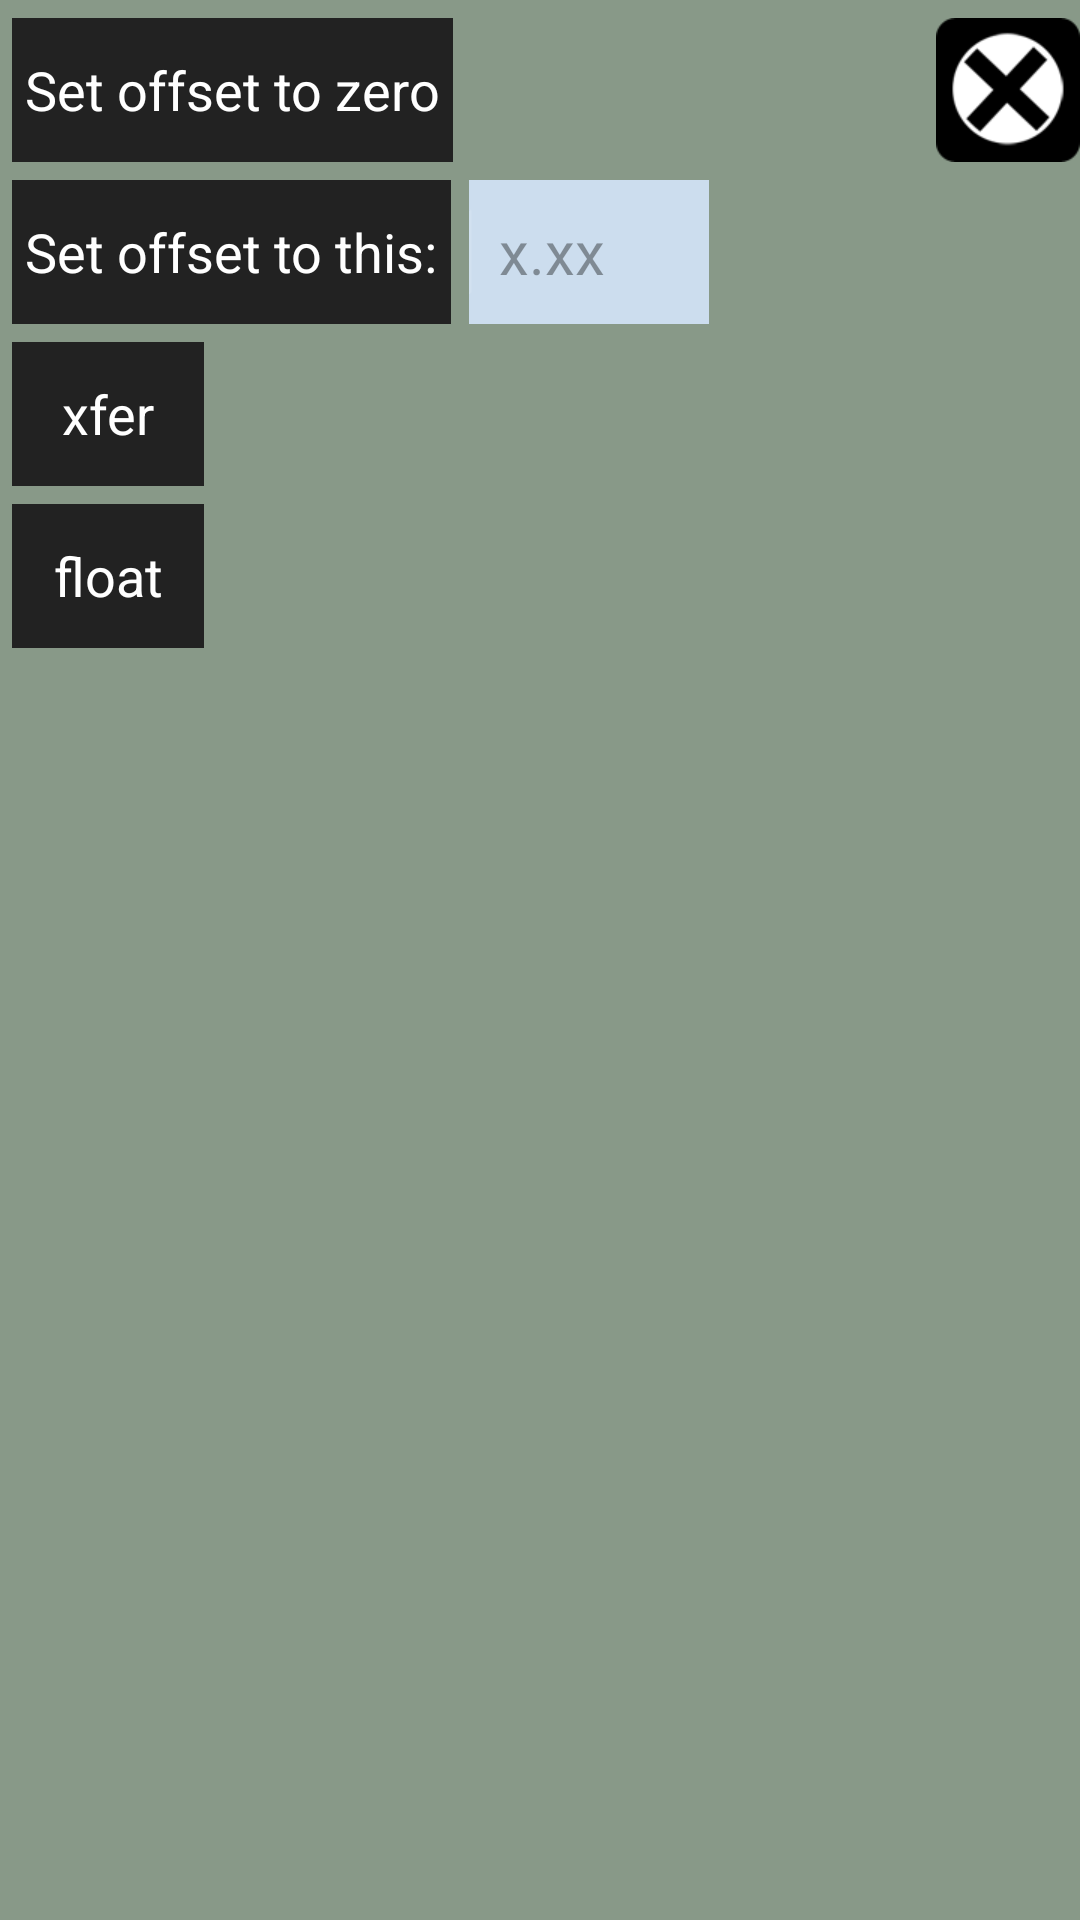

Screen size 1080*1920. Icon name, then its center in pixels as (x,y):
exit: (1008,90)
